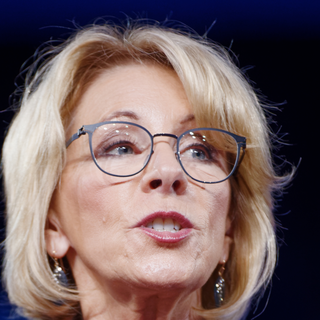eye: (90, 132, 147, 167), (169, 134, 225, 169)
